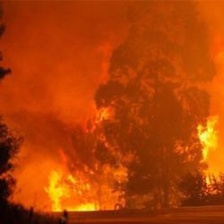fire: (36, 155, 115, 217), (185, 113, 220, 175)
